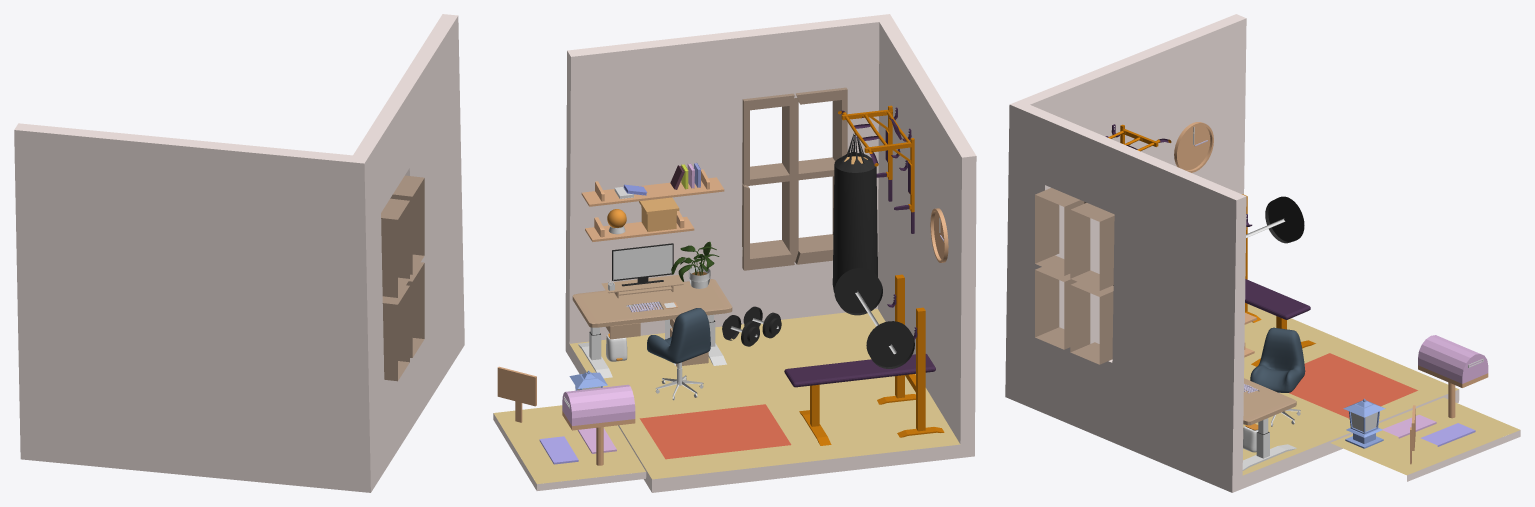
The picture shows the model from 3 angles, left to right: view 1: azimuth 30°, elevation 25°; view 2: azimuth 150°, elevation 25°; view 3: azimuth 270°, elevation 25°; orthographic projection. The views are drawn at different scales.
Visible parts, largest first — view 1: Walls, Plane; view 2: Walls, Plane, Walls.001, Plane.005, Cylinder.025, stoleshnisa, Cylinder.030, Cube.095, Cube.100, Cube.091, Cube.067, Screen.002 (+13 smaller); view 3: Walls, Plane, Walls.001, Plane.005, Cube.091, Cylinder.030, Cylinder.026, stoleshnisa, Cube.100, Cylinder.012, Plane.001, Walls.004 (+1 smaller).
Part boxes in pixels (left/top/right/bottom): Walls: left=14, top=14, right=464, bottom=492; Plane: left=381, top=175, right=424, bottom=381; Walls: left=565, top=14, right=976, bottom=492; Plane: left=742, top=87, right=847, bottom=270; Walls.001: left=493, top=405, right=646, bottom=490; Plane.005: left=639, top=404, right=791, bottom=459; Cylinder.025: left=832, top=133, right=877, bottom=292; stoleshnisa: left=572, top=279, right=732, bottom=327; Cylinder.030: left=562, top=384, right=635, bottom=430; Cube.095: left=838, top=105, right=914, bottom=233; Cube.100: left=784, top=354, right=935, bottom=387; Cube.091: left=647, top=308, right=710, bottom=363; Cube.067: left=581, top=169, right=724, bottom=206; Screen.002: left=613, top=244, right=672, bottom=279; Walls: left=1005, top=14, right=1459, bottom=492; Plane: left=1035, top=187, right=1114, bottom=364; Walls.001: left=1330, top=397, right=1520, bottom=481; Plane.005: left=1289, top=353, right=1417, bottom=418; Cube.091: left=1250, top=327, right=1305, bottom=392; Cylinder.030: left=1418, top=335, right=1488, bottom=387; Cylinder.026: left=1174, top=122, right=1213, bottom=172; stoleshnisa: left=1243, top=378, right=1296, bottom=425; Cube.100: left=1245, top=279, right=1310, bottom=319; Cylinder.012: left=1265, top=198, right=1300, bottom=243; Plane.001: left=1343, top=398, right=1385, bottom=448; Walls.004: left=1420, top=423, right=1475, bottom=446.
Size of the model in its own units: 7.31 by 5.21 by 8.22.
